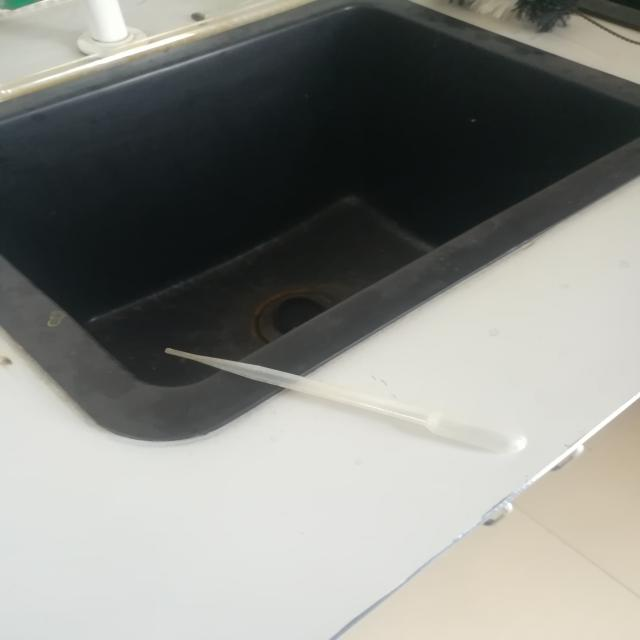Pipette: (108, 299, 569, 502)
